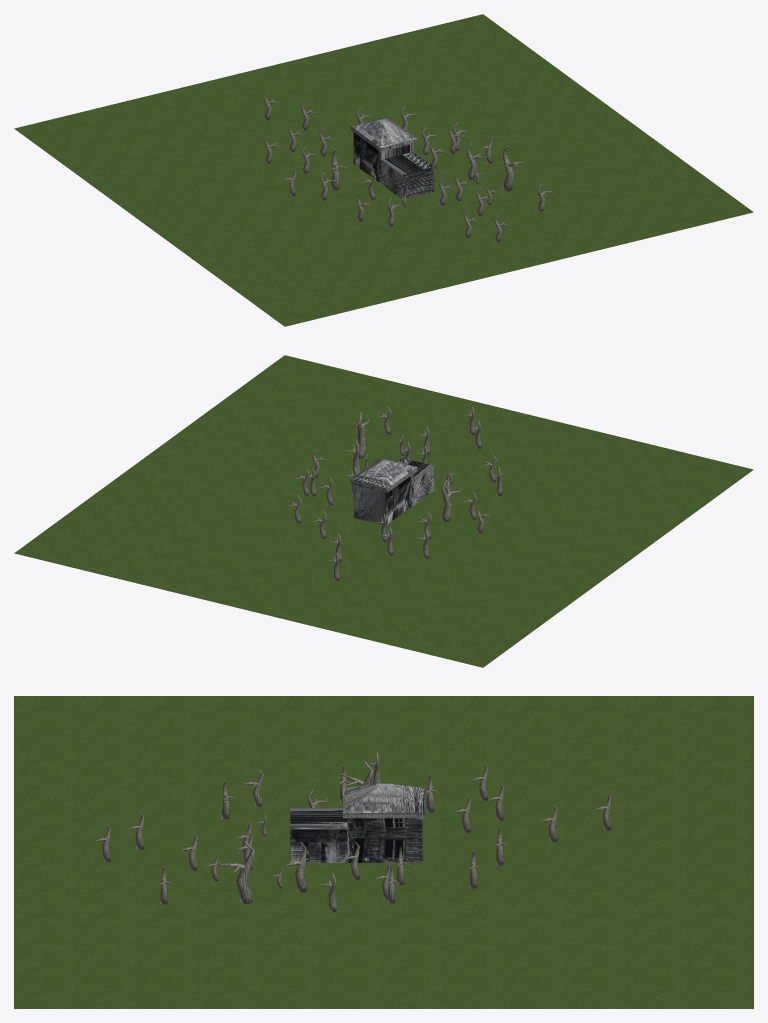
Rendered from old house.fbx.
3 renders of one model, top to bottom at view 1: azimuth 30°, elevation 25°; view 2: azimuth 150°, elevation 25°; view 3: azimuth 270°, elevation 25°, orthographic. The views are drawn at different scales.
Parts seen in each view (by area): view 1: Plane; view 2: Plane; view 3: Plane.
Part boxes in pixels (bbox=[...]): Plane: bbox=[14, 14, 753, 326]; Plane: bbox=[14, 355, 753, 667]; Plane: bbox=[14, 696, 753, 1008].
Size of the model in its own units: 2898 by 299 by 2898.
